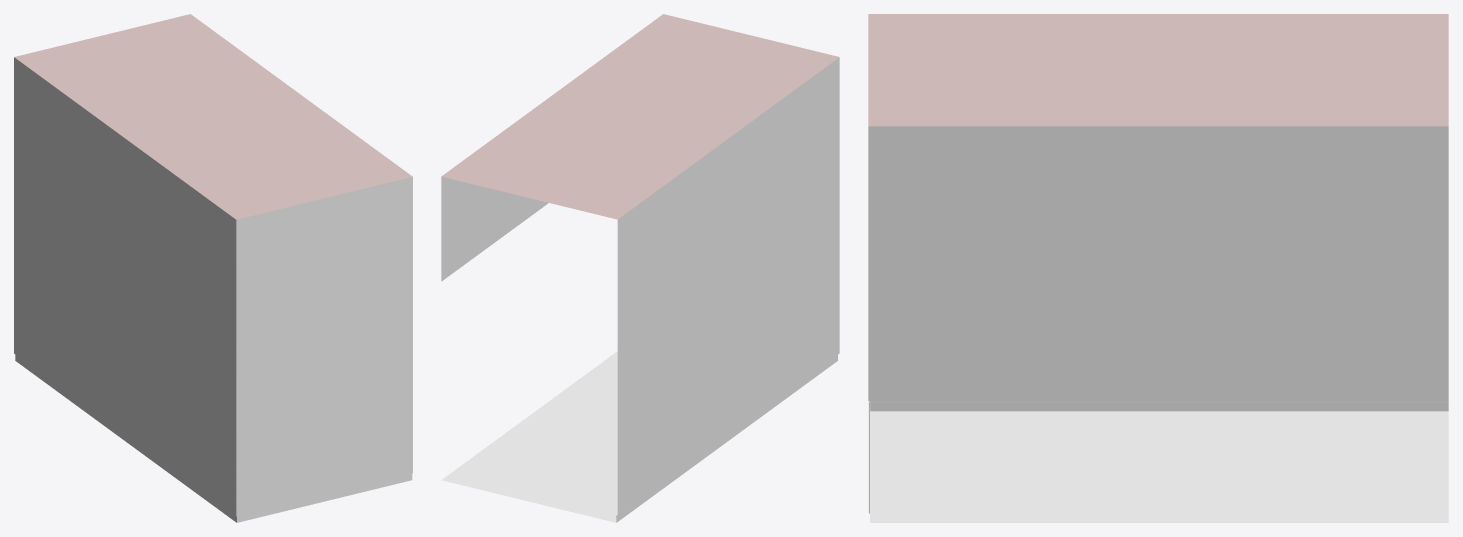
Rendered from TR_SectionB_01.fbx.
3 renders of one model, left to right at view 1: azimuth 30°, elevation 25°; view 2: azimuth 150°, elevation 25°; view 3: azimuth 270°, elevation 25°, orthographic. The views are drawn at different scales.
Parts seen in each view (by area): view 1: TR_SectionB_01_LOD0; view 2: TR_SectionB_01_LOD0; view 3: TR_SectionB_01_LOD0.
Boxes of the visible parts, bbox=[...] form: TR_SectionB_01_LOD0: bbox=[14, 14, 412, 522]; TR_SectionB_01_LOD0: bbox=[441, 14, 839, 522]; TR_SectionB_01_LOD0: bbox=[868, 14, 1448, 522].
Size of the model in its own units: 300 by 493 by 654.
